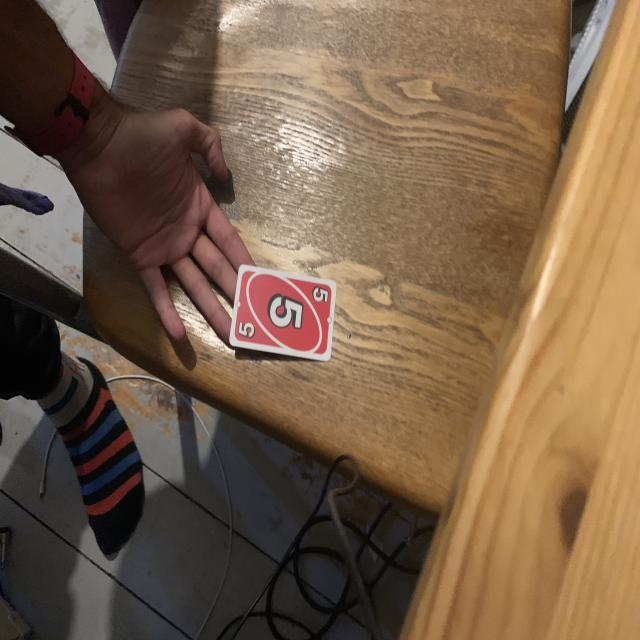lred-5: (236, 319, 258, 342)
